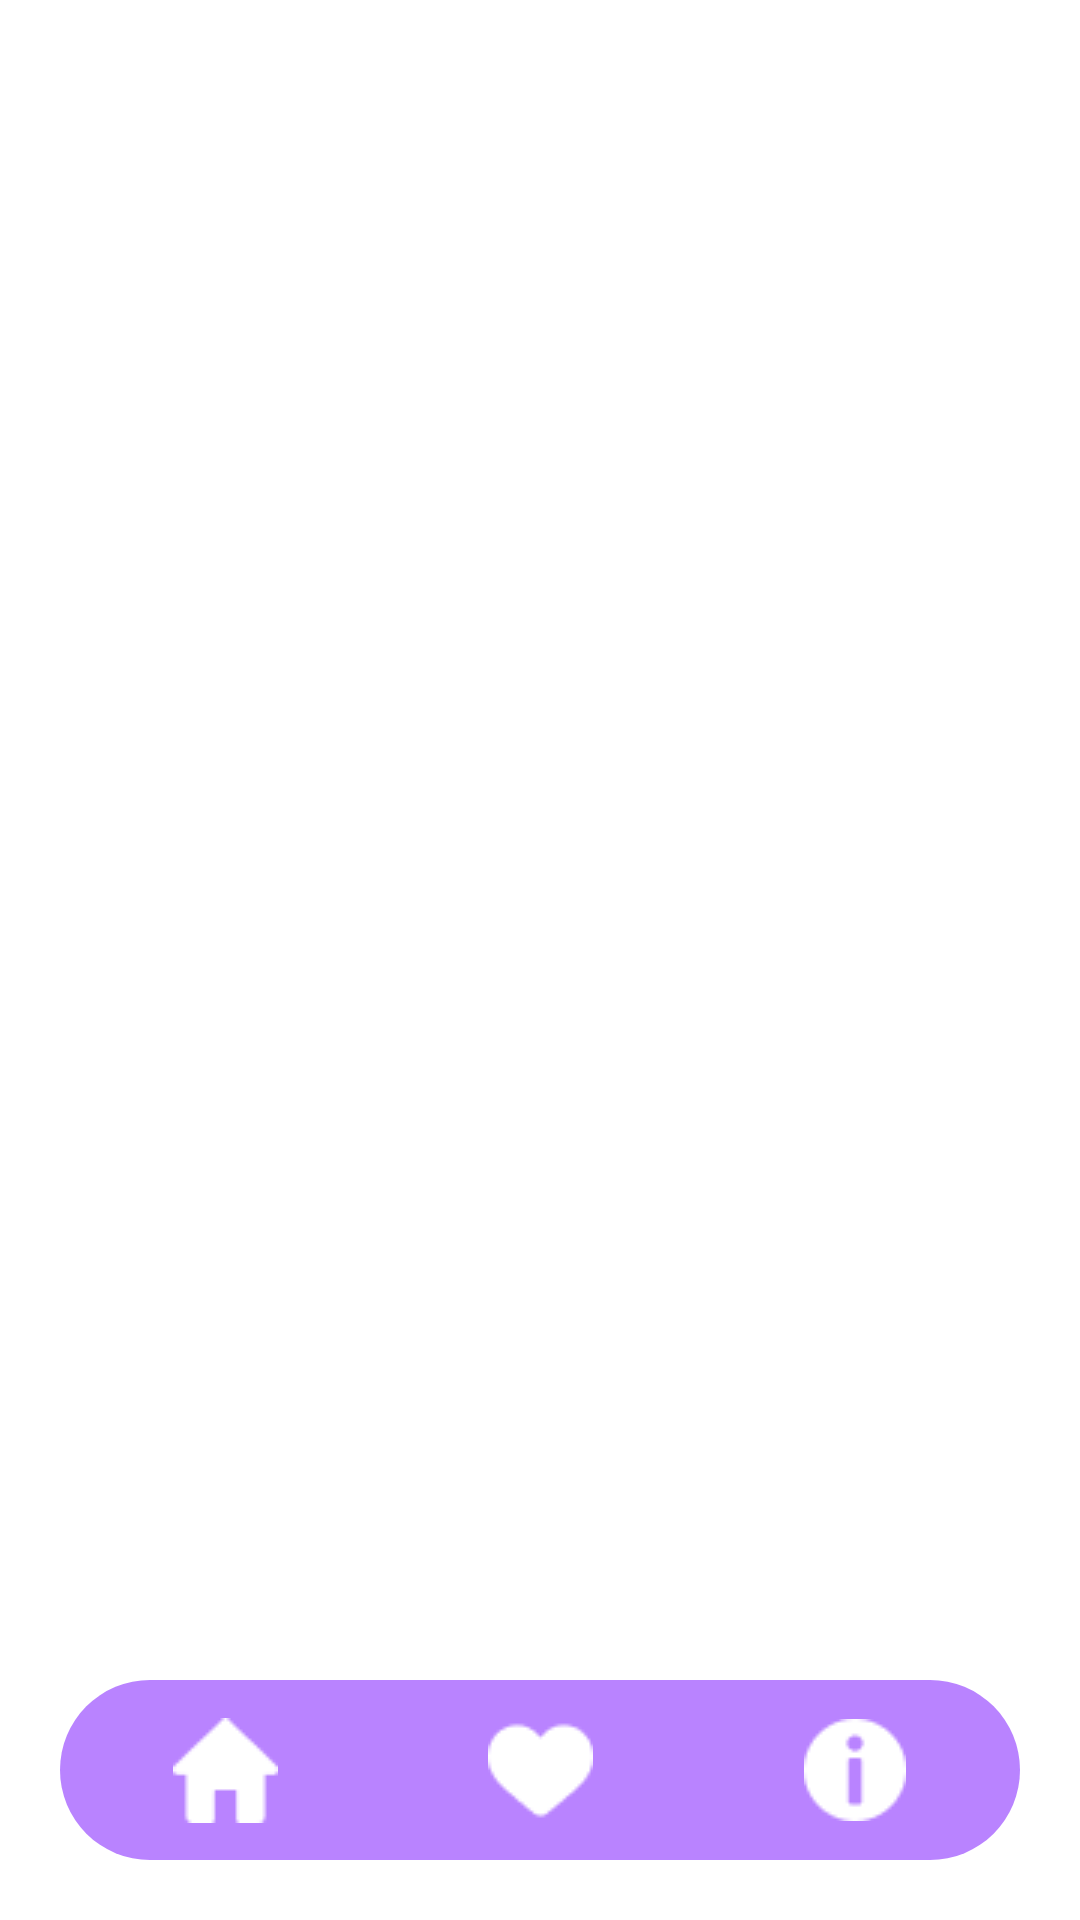

Icons on this 1080x1920 Android screen, each with its box as (x1, y1, x2, y2):
headrt: (488, 1724, 593, 1817)
